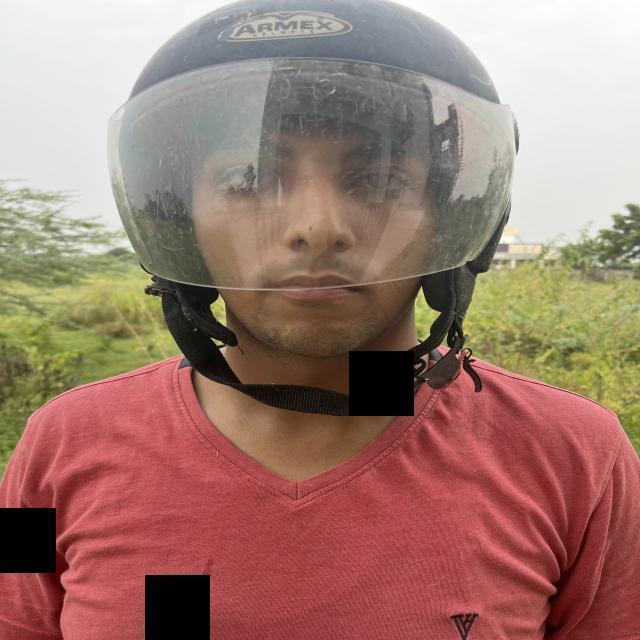helmet: (112, 0, 522, 421)
